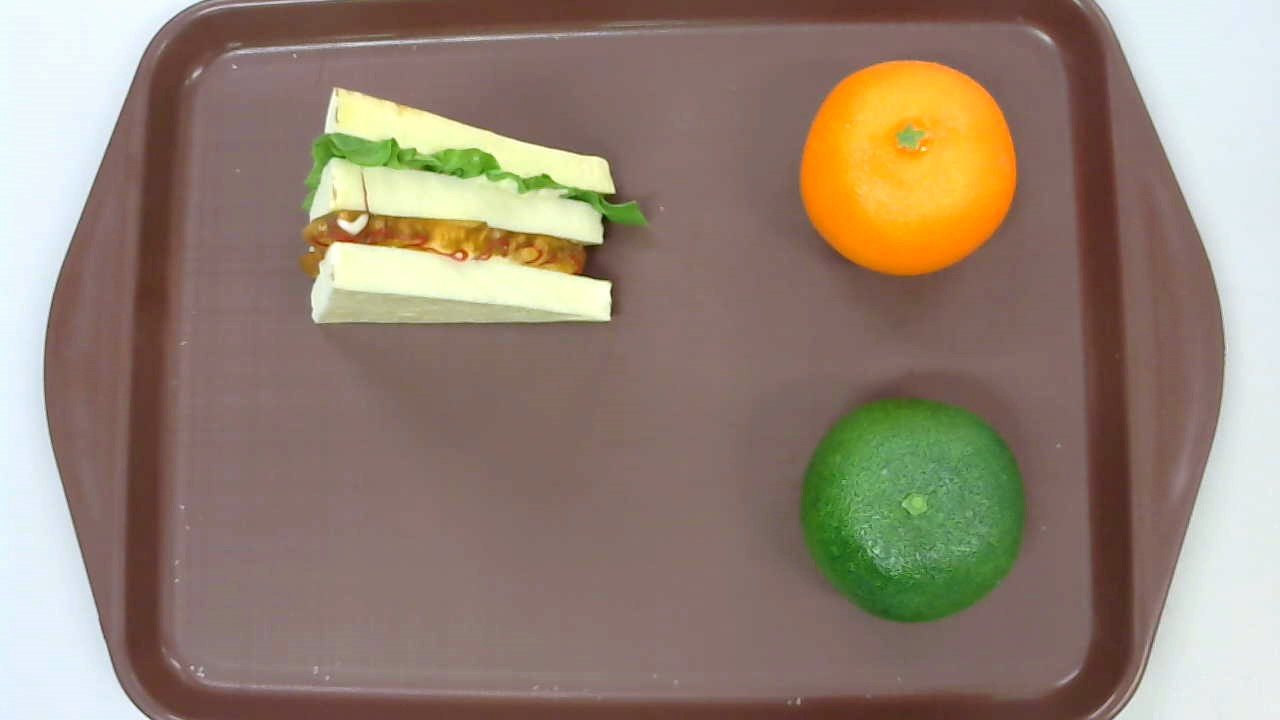green orange: (801, 397, 1025, 621)
orange: (798, 59, 1017, 276)
sandwich: (298, 85, 653, 327)
